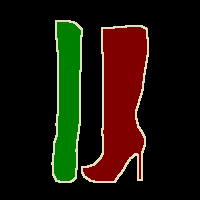shoe: (82, 26, 148, 182), (52, 20, 82, 182)
